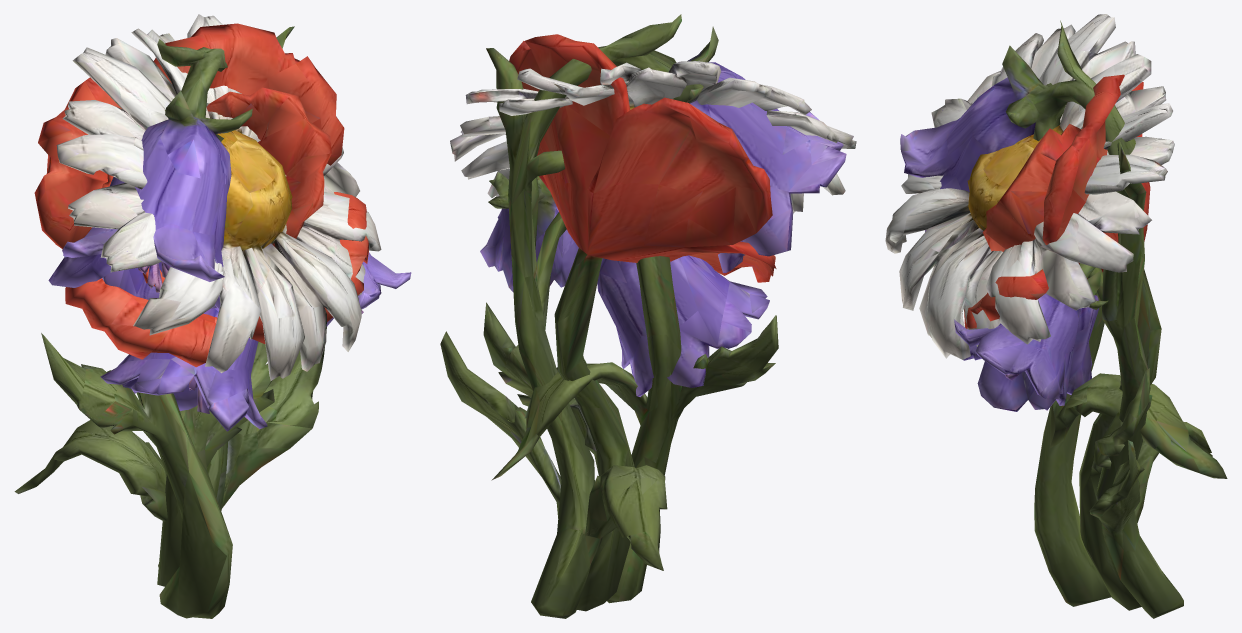
The model's file is cicekler1.glb.
3 views of the same model, side by side, from view 1: azimuth 30°, elevation 25°; view 2: azimuth 150°, elevation 25°; view 3: azimuth 270°, elevation 25° (orthographic). The views are drawn at different scales.
Parts seen in each view (by area): view 1: papatya, cancicegi, gelincik; view 2: cancicegi, gelincik, papatya; view 3: papatya, cancicegi, gelincik.
Boxes of the visible parts, box(x1,y1,x2,y2) form: papatya: box(41, 14, 381, 618); cancicegi: box(14, 26, 411, 566); gelincik: box(34, 23, 368, 586); cancicegi: box(440, 14, 846, 618); gelincik: box(483, 34, 776, 611); papatya: box(450, 61, 856, 603); papatya: box(885, 14, 1227, 606); cancicegi: box(900, 20, 1212, 618); gelincik: box(964, 74, 1161, 610).
Size of the model in its own units: 0.6141 by 1.02 by 0.5645.
Materials: 1 (1 with a texture image).
